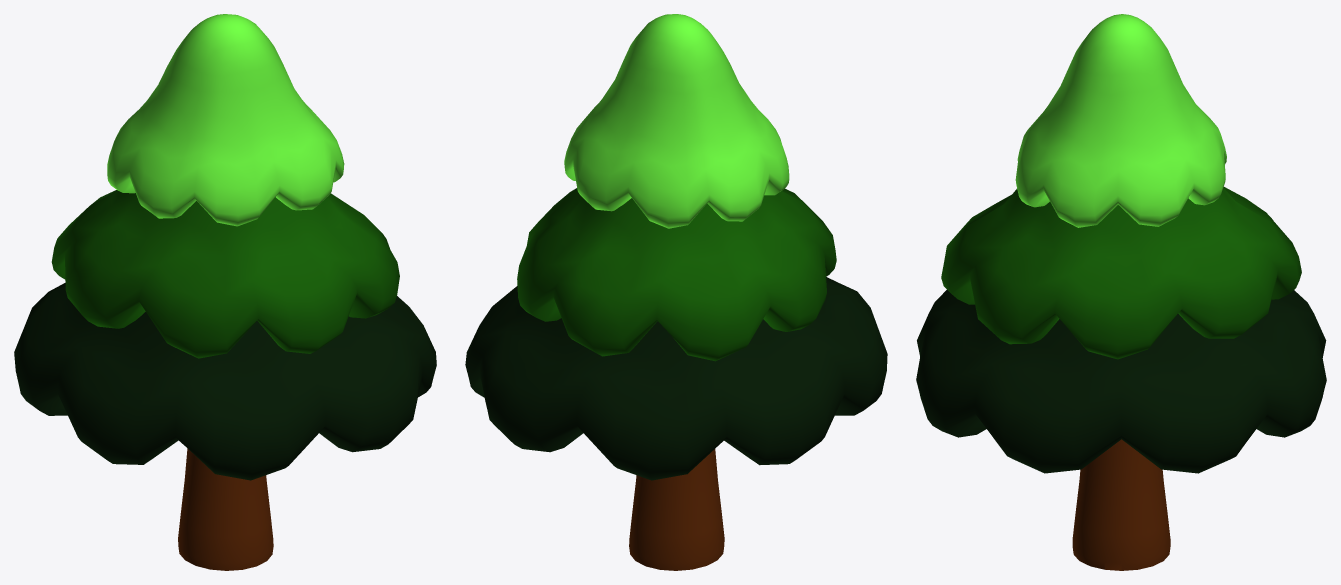
Rendered from Sapin_03.fbx.
3 renders of one model, left to right at view 1: azimuth 30°, elevation 25°; view 2: azimuth 150°, elevation 25°; view 3: azimuth 270°, elevation 25°, orthographic.
Parts seen in each view (by area): view 1: Feuilles_Bas_low, Feuilles_Milieu_low, Feuilles_Haut_low, Tronc_low; view 2: Feuilles_Bas_low, Feuilles_Milieu_low, Feuilles_Haut_low, Tronc_low; view 3: Feuilles_Bas_low, Feuilles_Milieu_low, Feuilles_Haut_low, Tronc_low.
Part boxes in pixels (bbox=[...]): Feuilles_Bas_low: bbox=[14, 282, 436, 480]; Feuilles_Milieu_low: bbox=[51, 190, 399, 358]; Feuilles_Haut_low: bbox=[107, 14, 344, 226]; Tronc_low: bbox=[178, 448, 273, 570]; Feuilles_Bas_low: bbox=[465, 277, 887, 480]; Feuilles_Milieu_low: bbox=[517, 188, 836, 361]; Feuilles_Haut_low: bbox=[564, 14, 789, 228]; Tronc_low: bbox=[629, 449, 724, 570]; Feuilles_Bas_low: bbox=[916, 290, 1326, 473]; Feuilles_Milieu_low: bbox=[941, 187, 1301, 359]; Feuilles_Haut_low: bbox=[1015, 14, 1226, 227]; Tronc_low: bbox=[1072, 439, 1170, 570].
Bounding box in the file's own units: 77.7 × 114 × 79.75.
